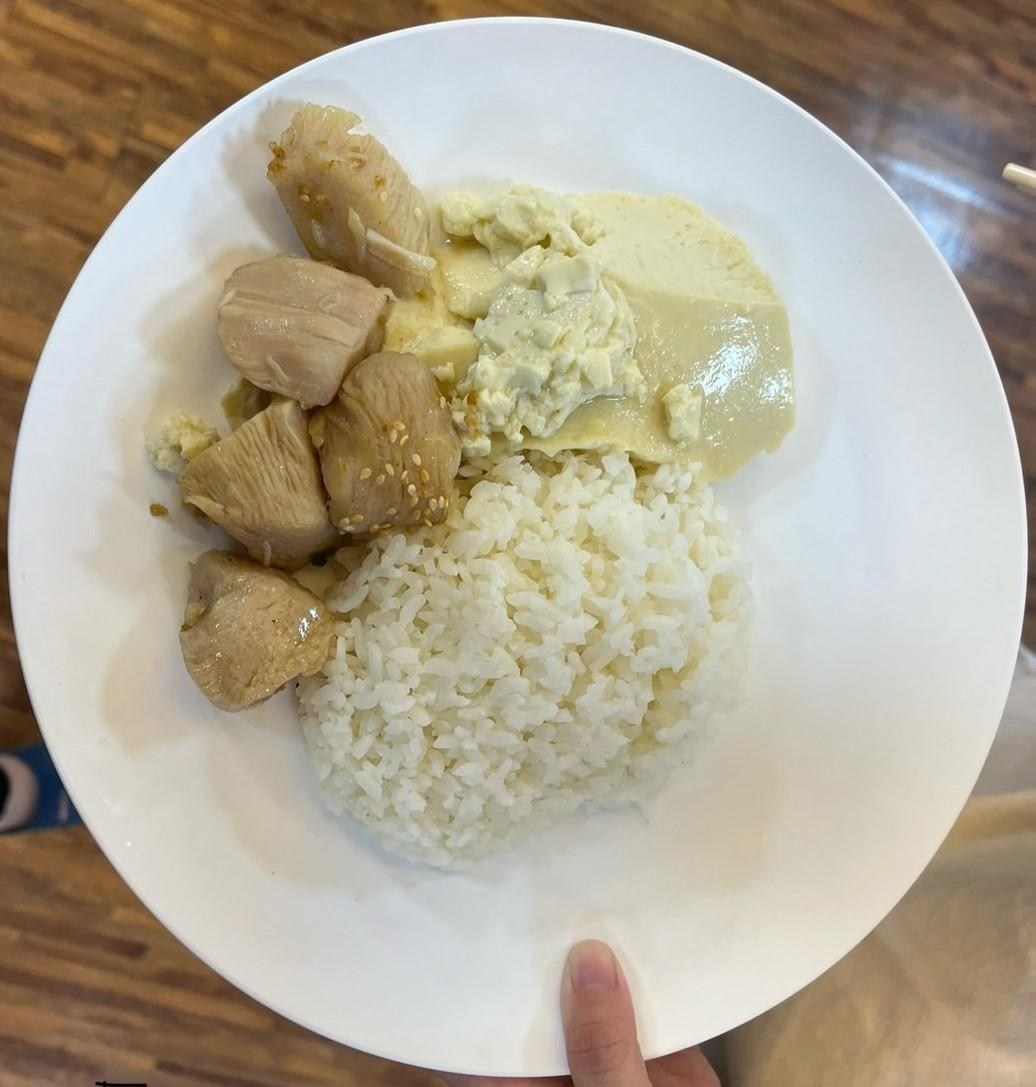big fried chicken leg: (6, 3, 1036, 1083)
big herbal chicken leg: (301, 455, 755, 867)
braised fish fillet: (435, 170, 801, 475)
braised pork: (165, 91, 461, 719)
